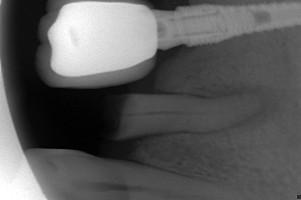Furcation Involvement: (193, 83, 286, 129)
